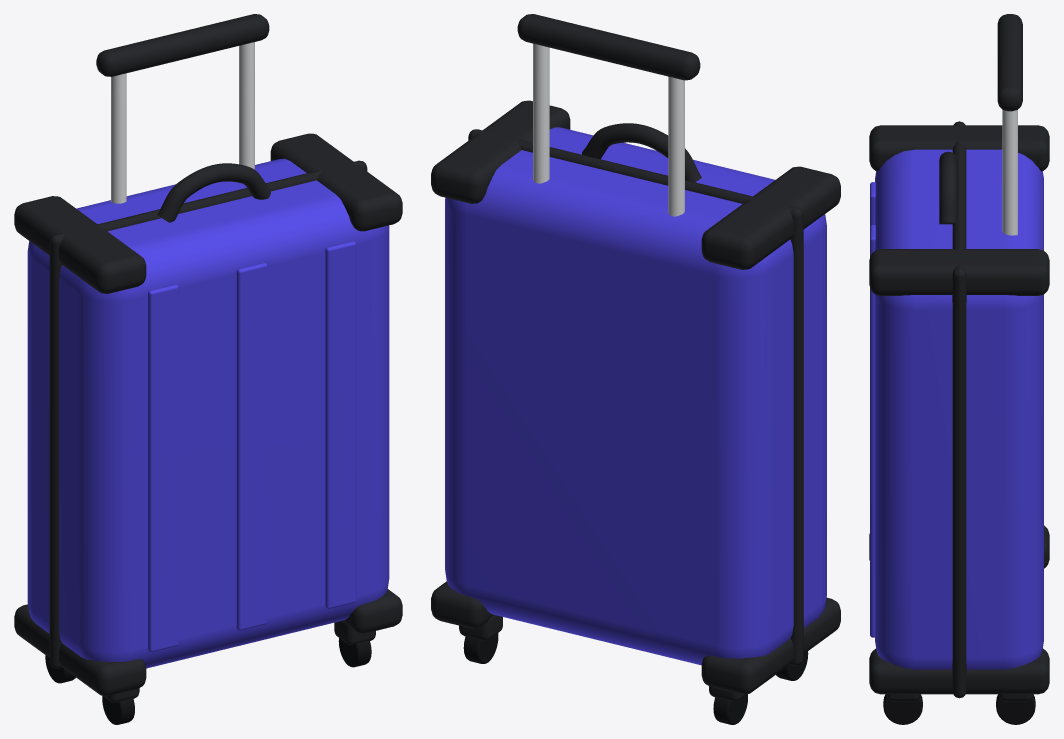
File: hero-suitcase.glb
The picture shows the model from 3 angles, left to right: view 1: azimuth 30°, elevation 25°; view 2: azimuth 150°, elevation 25°; view 3: azimuth 270°, elevation 25°; orthographic projection. The views are drawn at different scales.
Parts seen in each view (by area): view 1: Shell, Rib.001, Rib.002, Rib, Corner guard.001, Zip band, Corner guard.003, Handle grip, Corner guard, Carry handle, Handle post, Handle post.001 (+3 smaller); view 2: Shell, Corner guard.001, Zip band, Corner guard.003, Handle grip, Corner guard, Handle post, Handle post.001, Carry handle, Corner guard.002, Wheel.003, Wheel.001; view 3: Shell, Corner guard.003, Zip band, Corner guard.002, Corner guard.001, Handle grip, Handle post.001, Rib.002, Carry handle, Wheel.002, Wheel.003.
Boxes of the visible parts, left/top/right/bottom form: Shell: left=27, top=158, right=389, bottom=668; Rib.001: left=236, top=263, right=267, bottom=630; Rib.002: left=325, top=241, right=356, bottom=608; Rib: left=148, top=284, right=178, bottom=652; Corner guard.001: left=14, top=196, right=146, bottom=293; Zip band: left=49, top=160, right=367, bottom=668; Corner guard.003: left=270, top=133, right=402, bottom=231; Handle grip: left=96, top=14, right=269, bottom=76; Corner guard: left=14, top=604, right=146, bottom=695; Carry handle: left=157, top=163, right=270, bottom=222; Handle post: left=111, top=73, right=126, bottom=203; Handle post.001: left=239, top=42, right=254, bottom=169; Shell: left=445, top=127, right=826, bottom=665; Corner guard.001: left=701, top=166, right=840, bottom=269; Zip band: left=468, top=129, right=803, bottom=665; Corner guard.003: left=431, top=100, right=570, bottom=203; Handle grip: left=517, top=14, right=700, bottom=80; Corner guard: left=701, top=597, right=840, bottom=694; Handle post: left=668, top=76, right=684, bottom=216; Handle post.001: left=533, top=43, right=549, bottom=183; Carry handle: left=582, top=123, right=701, bottom=182; Corner guard.002: left=431, top=581, right=493, bottom=628; Wheel.003: left=463, top=633, right=498, bottom=663; Wheel.001: left=713, top=694, right=747, bottom=724; Shell: left=875, top=149, right=1043, bottom=669; Corner guard.003: left=869, top=249, right=1049, bottom=295; Zip band: left=952, top=121, right=966, bottom=698; Corner guard.002: left=869, top=648, right=1049, bottom=694; Corner guard.001: left=869, top=125, right=1049, bottom=171; Handle grip: left=997, top=14, right=1022, bottom=111; Handle post.001: left=1002, top=110, right=1017, bottom=235; Rib.002: left=870, top=288, right=874, bottom=637; Carry handle: left=939, top=151, right=957, bottom=224; Wheel.002: left=883, top=694, right=922, bottom=724; Wheel.003: left=996, top=694, right=1035, bottom=724.
Size of the model in its own units: 0.64 by 1.2 by 0.32.
